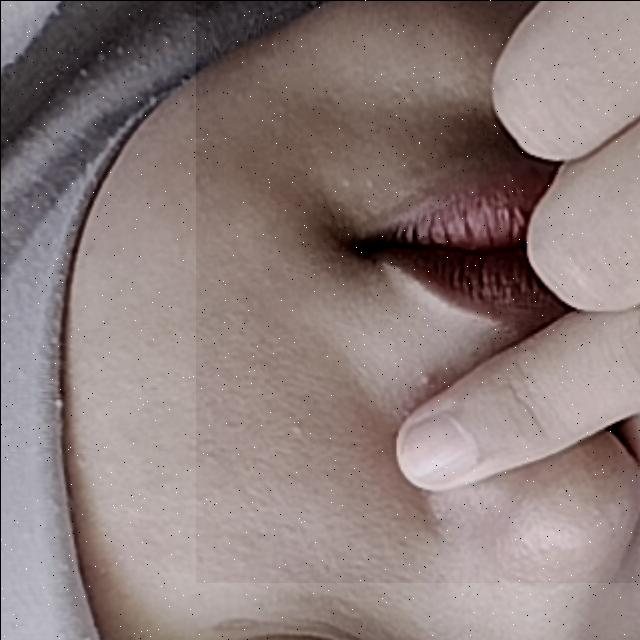bau: (195, 0, 640, 582)
